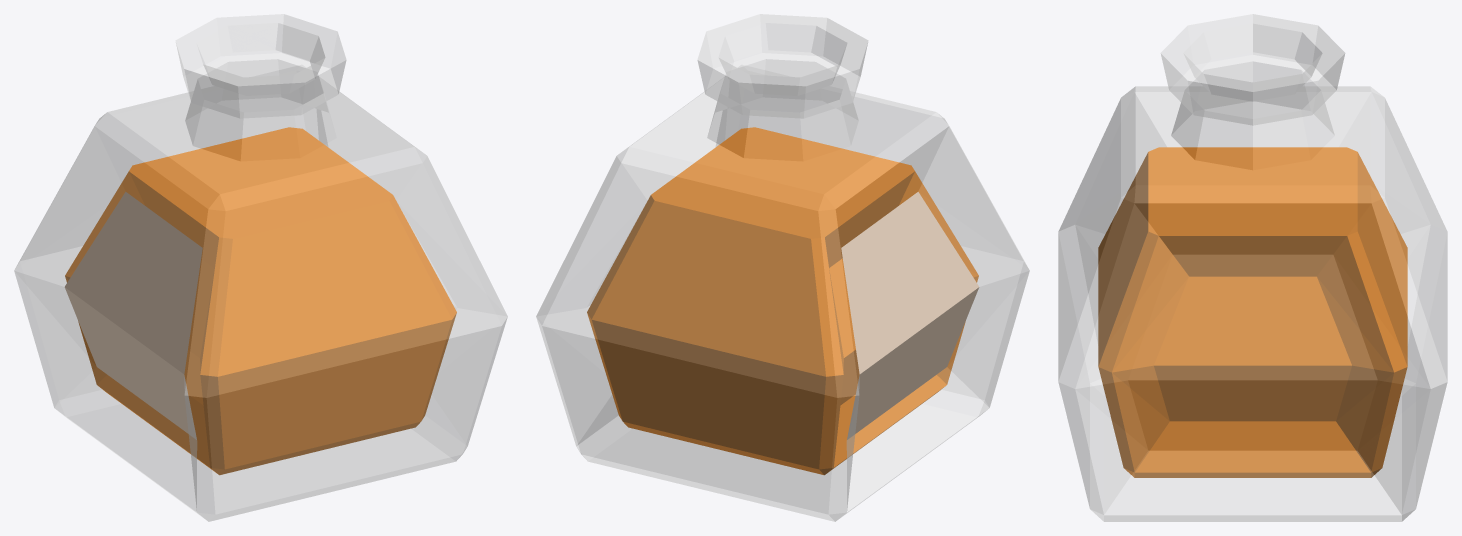
Rendered from SFFA_Inkwell.fbx.
3 views of the same model, side by side, from view 1: azimuth 30°, elevation 25°; view 2: azimuth 150°, elevation 25°; view 3: azimuth 270°, elevation 25° (orthographic). The views are drawn at different scales.
Visible parts, largest first — view 1: SFFA_Inkwell; view 2: SFFA_Inkwell; view 3: SFFA_Inkwell.
Boxes of the visible parts, bbox=[...] form: SFFA_Inkwell: bbox=[14, 14, 507, 521]; SFFA_Inkwell: bbox=[536, 14, 1029, 521]; SFFA_Inkwell: bbox=[1058, 14, 1447, 521].
Size of the model in its own units: 9 by 10.36 by 9.
